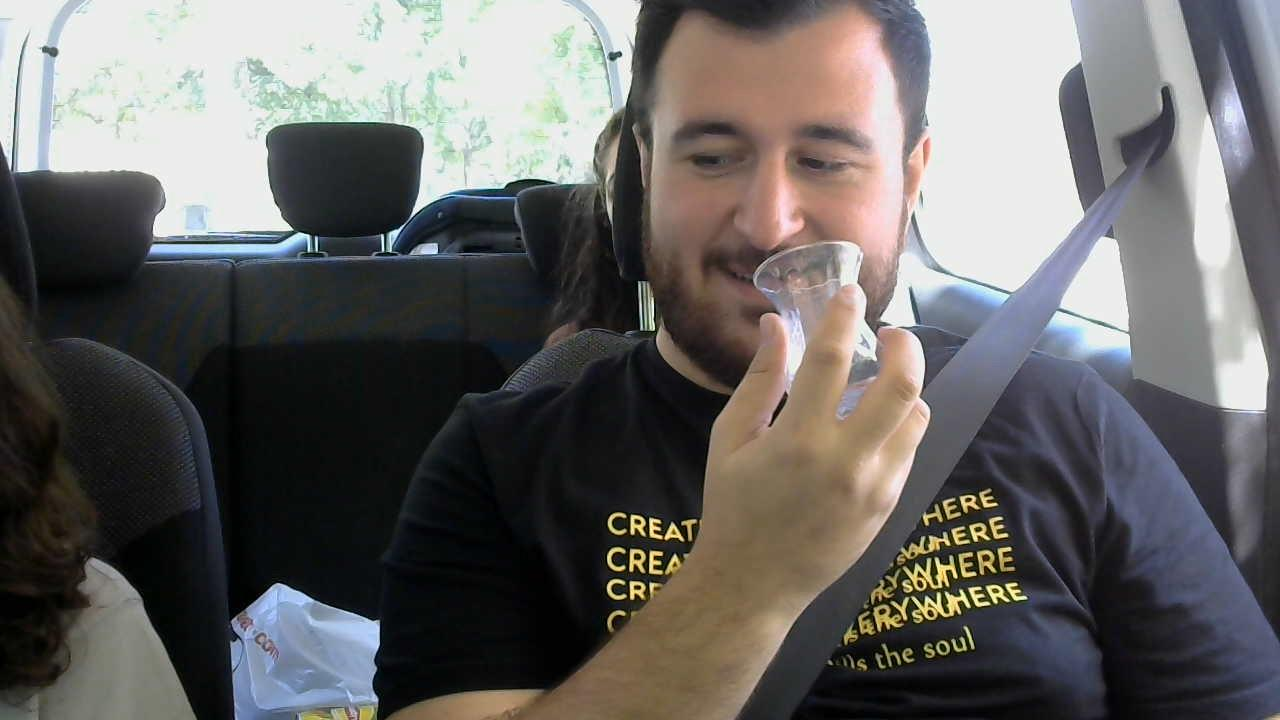Drinking: (754, 238, 894, 439)
